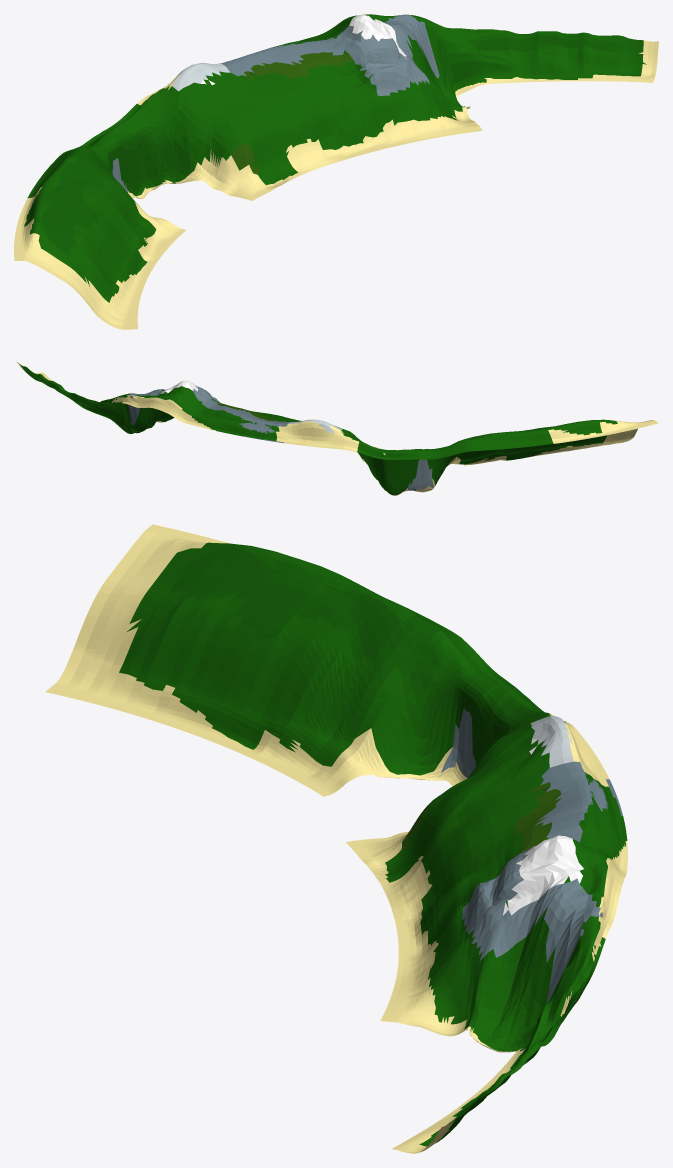
Rendered from ranges.glb.
3 views of the same model, one above another, from view 1: azimuth 30°, elevation 25°; view 2: azimuth 150°, elevation 25°; view 3: azimuth 270°, elevation 25° (orthographic). The views are drawn at different scales.
Parts seen in each view (by area): view 1: Plane; view 2: Plane; view 3: Plane.
Boxes of the visible parts, <box> form: Plane: <box>14,14,658,329</box>; Plane: <box>16,361,658,495</box>; Plane: <box>45,524,627,1153</box>.
Bounding box in the file's own units: 2775 × 376 × 1223.
1 material, 1 textured.
